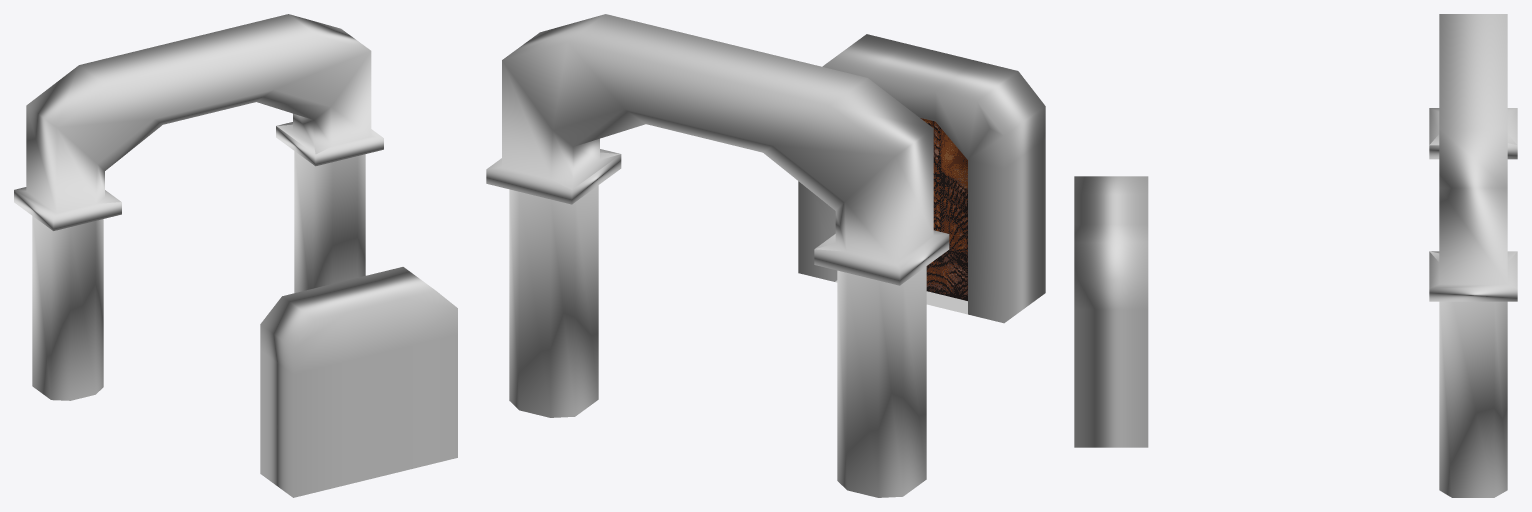
The model's file is forestEntrance.glb.
The picture shows the model from 3 angles, left to right: view 1: azimuth 30°, elevation 25°; view 2: azimuth 150°, elevation 25°; view 3: azimuth 270°, elevation 25°; orthographic projection. The views are drawn at different scales.
Visible parts, largest first — view 1: gateway, dungeonEntrance; view 2: gateway, dungeonEntrance; view 3: gateway, dungeonEntrance.
Part boxes in pixels (x1,y1,x2,y2): gateway: (14,14,383,400); dungeonEntrance: (260,267,457,497); gateway: (486,14,949,497); dungeonEntrance: (798,34,1045,323); gateway: (1429,14,1517,497); dungeonEntrance: (1074,176,1148,447).
Bounding box in the file's own units: 37.71 × 33.16 × 39.12.
Materials: 2 (1 with a texture image).
